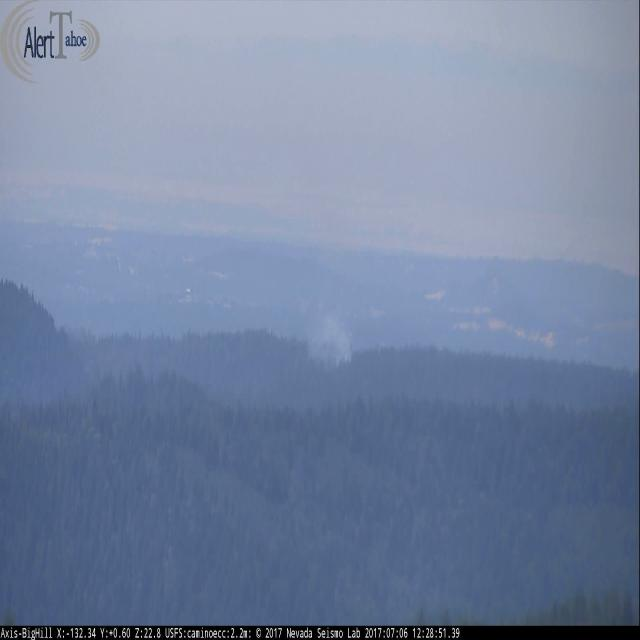smoke: (308, 312, 355, 366)
